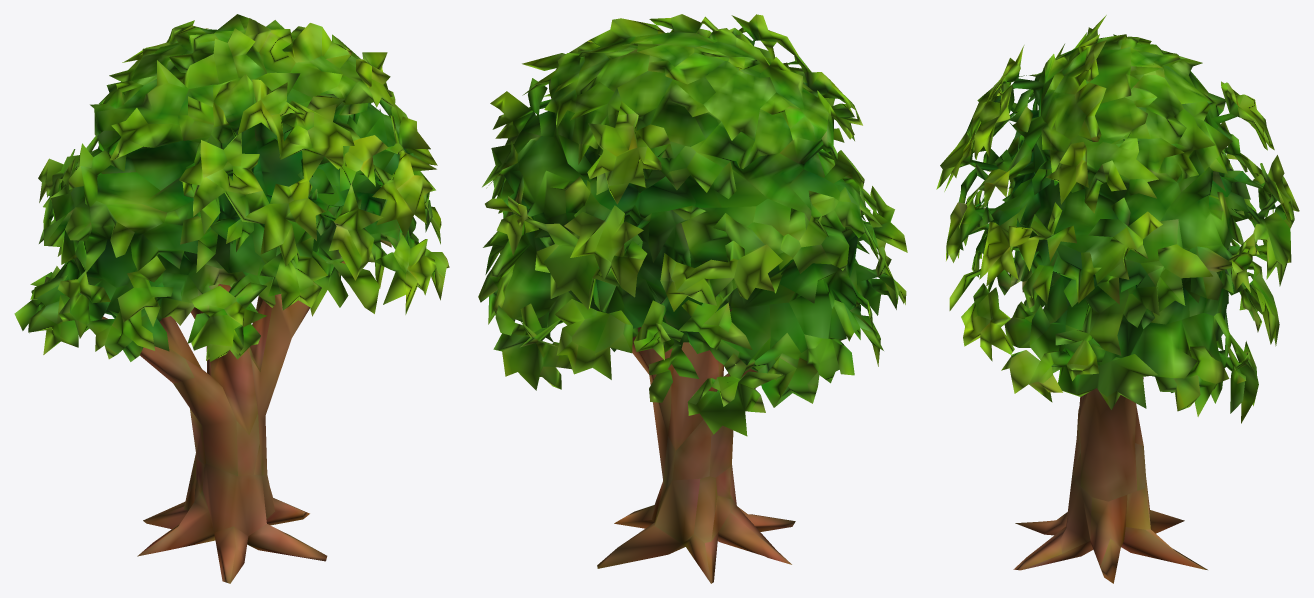
The model's file is oak.glb.
3 views of the same model, side by side, from view 1: azimuth 30°, elevation 25°; view 2: azimuth 150°, elevation 25°; view 3: azimuth 270°, elevation 25° (orthographic).
Visible parts, largest first — view 1: tripo_node_826cf9af-df21-4938-86aa-7a4d07ea4004; view 2: tripo_node_826cf9af-df21-4938-86aa-7a4d07ea4004; view 3: tripo_node_826cf9af-df21-4938-86aa-7a4d07ea4004.
Part boxes in pixels (left/top/right/bottom): tripo_node_826cf9af-df21-4938-86aa-7a4d07ea4004: left=14, top=14, right=449, bottom=583; tripo_node_826cf9af-df21-4938-86aa-7a4d07ea4004: left=478, top=14, right=907, bottom=583; tripo_node_826cf9af-df21-4938-86aa-7a4d07ea4004: left=936, top=15, right=1299, bottom=583.
Size of the model in its own units: 0.7988 by 1 by 0.6377.
Materials: 1 (1 with a texture image).
